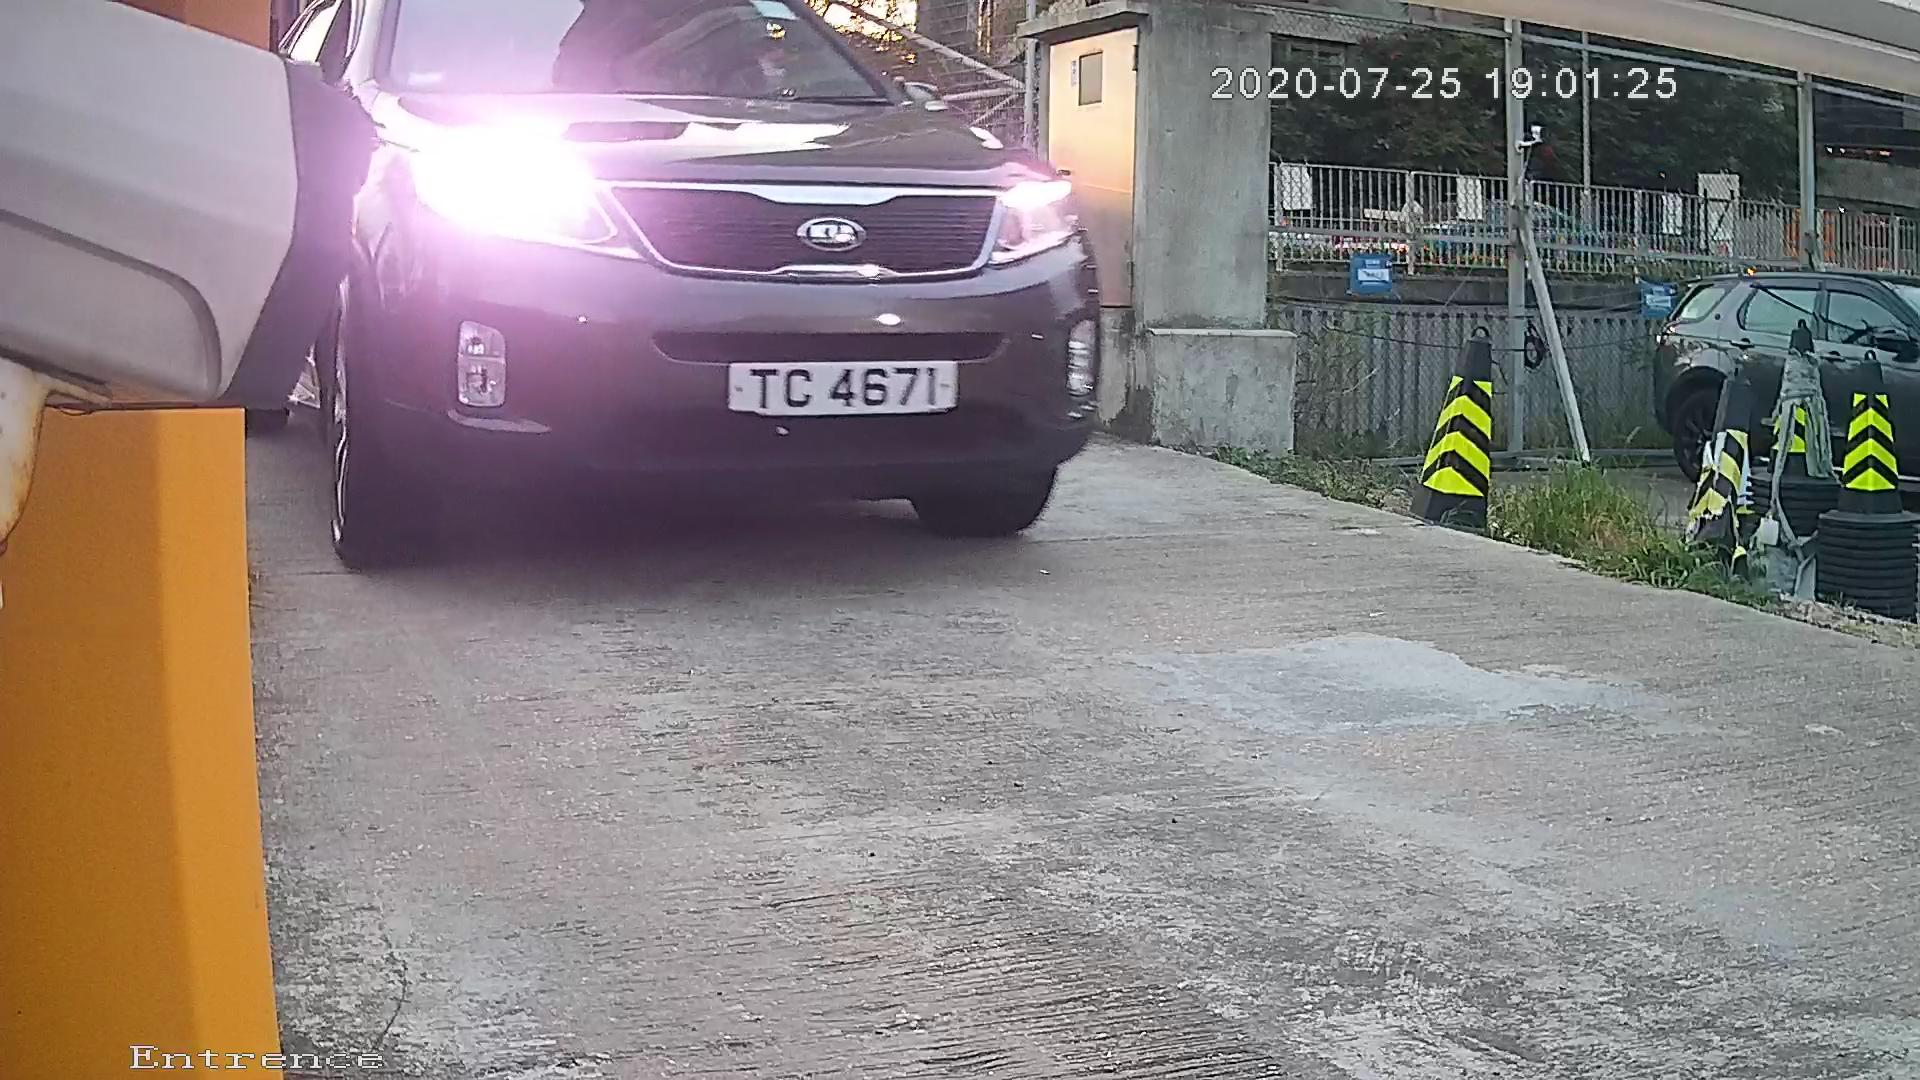License Plate: (721, 348, 952, 430)
